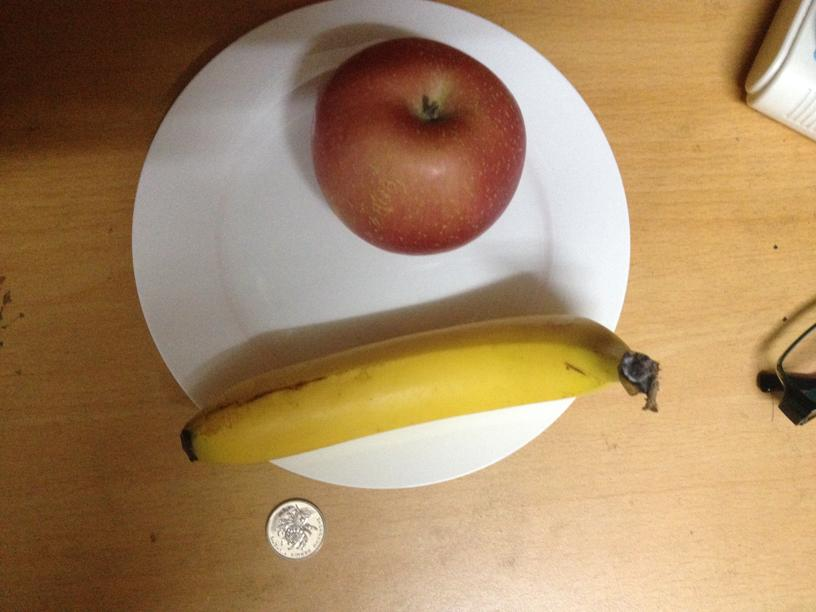apple: (314, 34, 528, 255)
banana: (174, 310, 628, 464)
coin: (265, 498, 326, 560)
